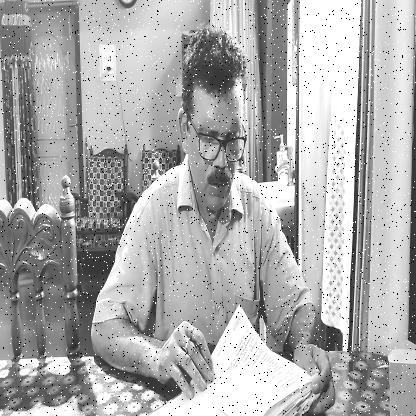Normal: (178, 27, 246, 213)
